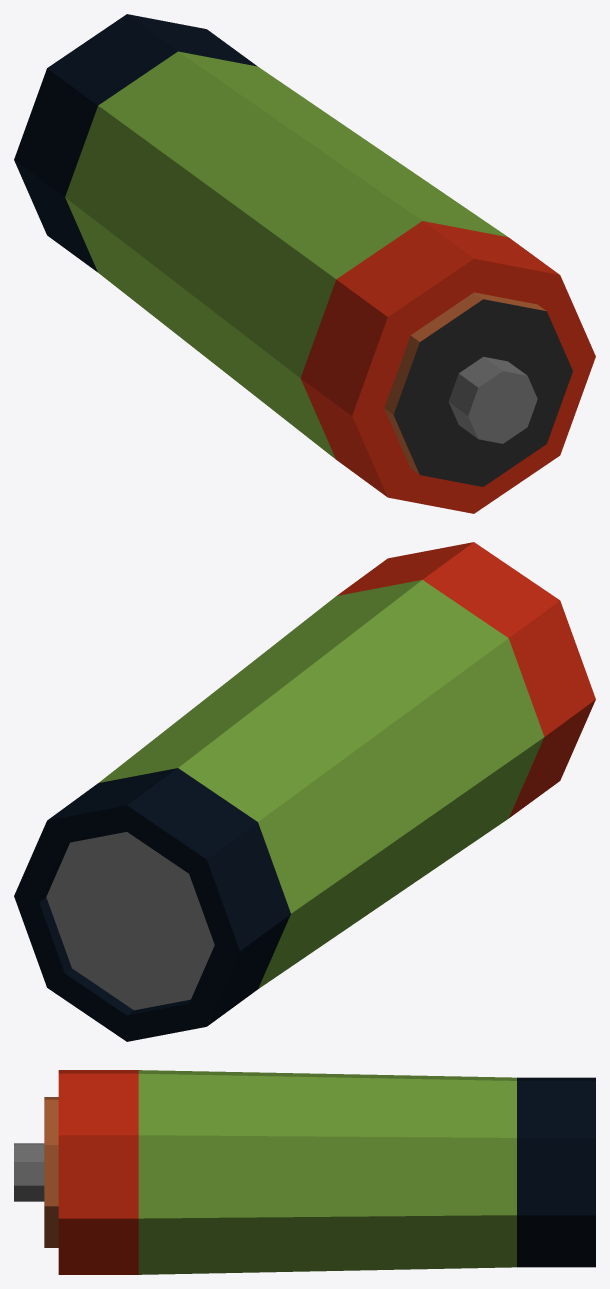
The model's file is battery.glb.
3 renders of one model, top to bottom at view 1: azimuth 30°, elevation 25°; view 2: azimuth 150°, elevation 25°; view 3: azimuth 270°, elevation 25°, orthographic. The views are drawn at different scales.
Parts seen in each view (by area): view 1: Cylinder; view 2: Cylinder; view 3: Cylinder.
Boxes of the visible parts, bbox=[...] form: Cylinder: bbox=[14, 14, 595, 513]; Cylinder: bbox=[14, 542, 595, 1041]; Cylinder: bbox=[14, 1070, 595, 1274].
Size of the model in its own units: 0.4281 by 0.4281 by 1.14.
1 material, 1 textured.
